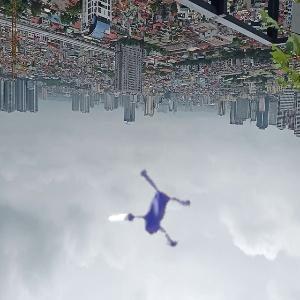drone: (88, 152, 205, 269)
